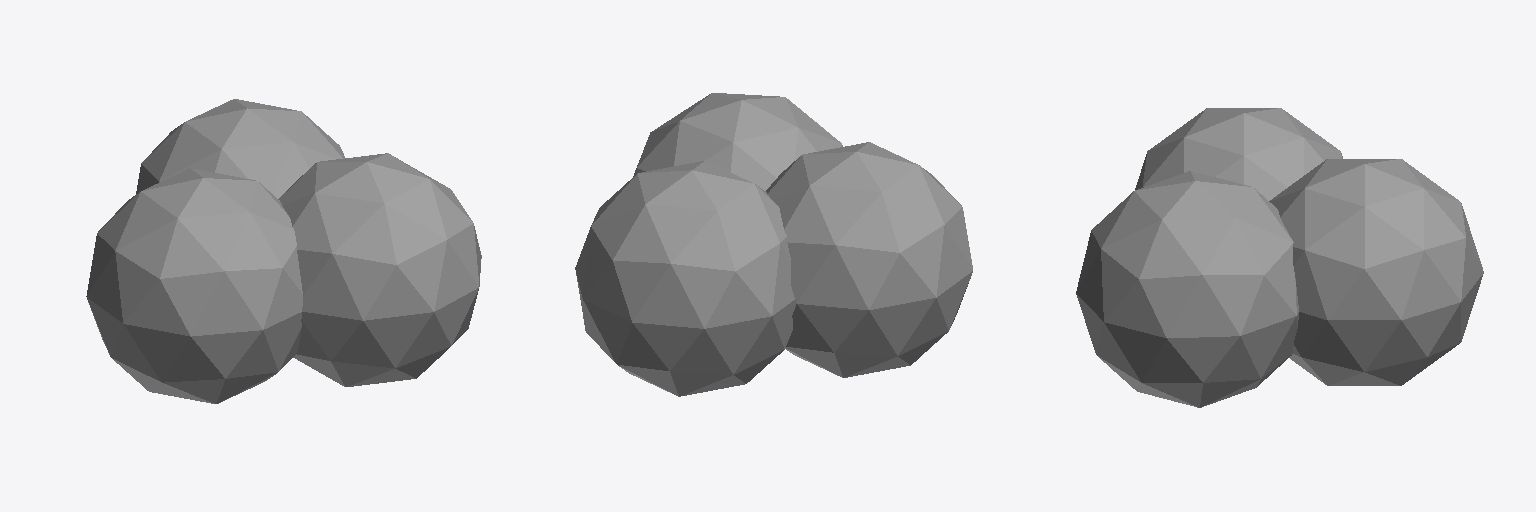
File: tritium.obj
3 renders of one model, left to right at view 1: azimuth 30°, elevation 25°; view 2: azimuth 150°, elevation 25°; view 3: azimuth 270°, elevation 25°, orthographic.
Parts seen in each view (by area): view 1: Icosphere; view 2: Icosphere; view 3: Icosphere.
Boxes of the visible parts, x1,y1,x2,y2 form: Icosphere: [86, 99, 481, 403]; Icosphere: [575, 93, 972, 396]; Icosphere: [1076, 108, 1483, 407].
Size of the model in its own units: 3.27 by 2 by 3.41.